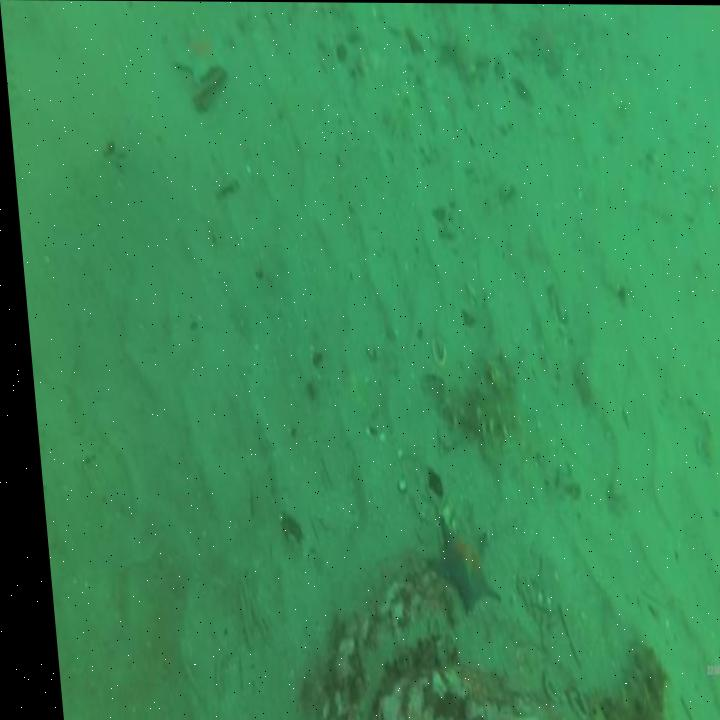holothurian: (430, 340, 518, 445), (579, 634, 661, 720)
starfish: (415, 512, 495, 619), (164, 17, 233, 90)
